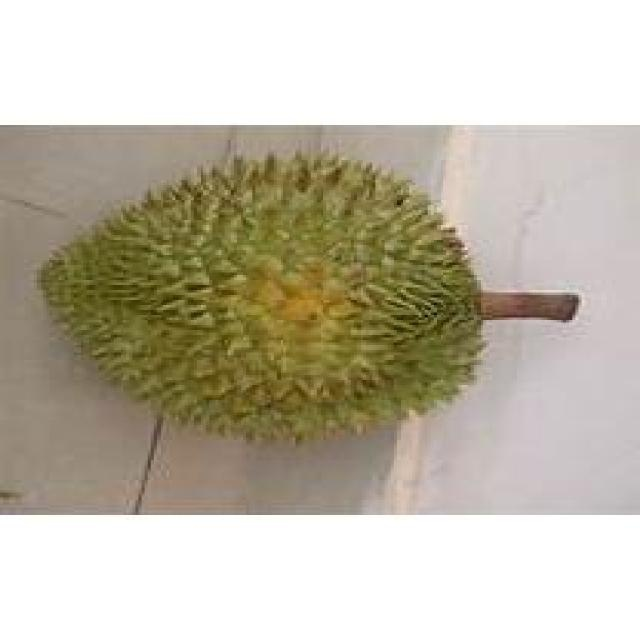agrume: (39, 132, 493, 455)
